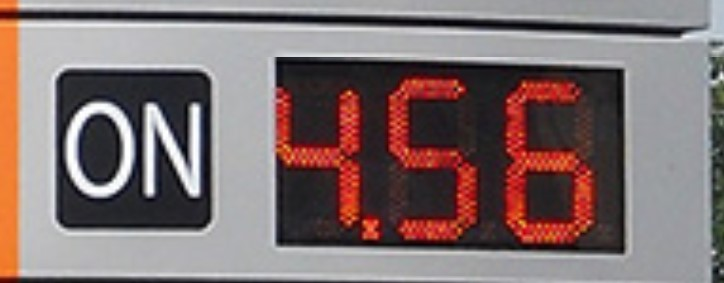digits: (382, 72, 484, 247), (498, 71, 601, 244), (270, 72, 364, 240)
